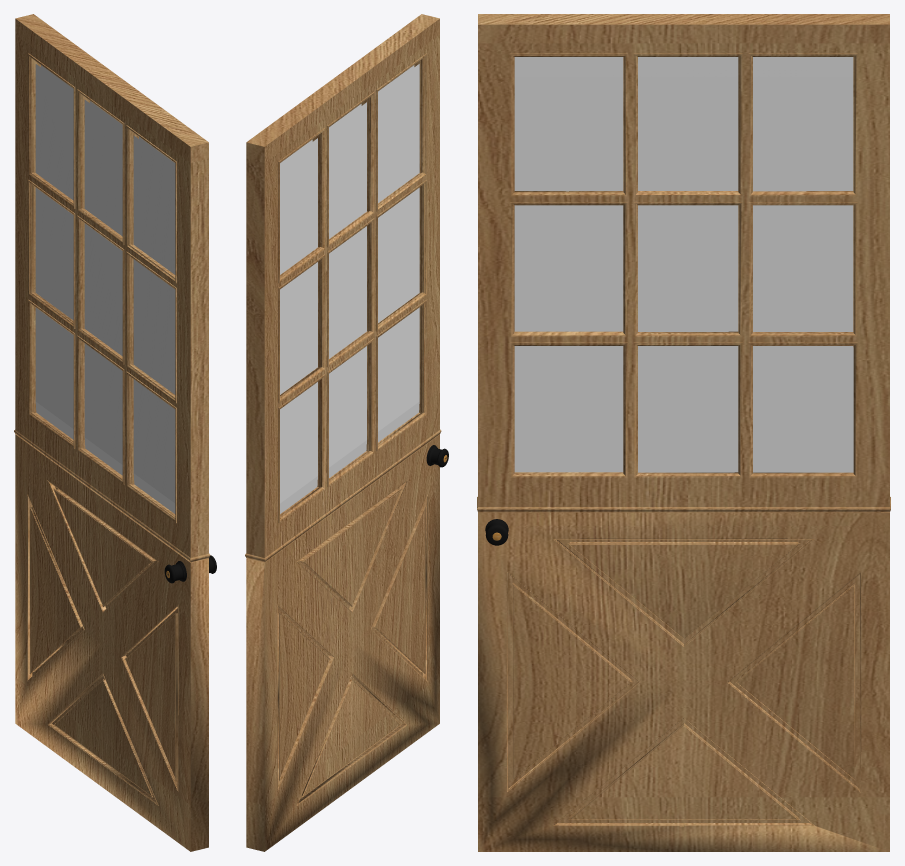
Rendered from door_fixed.fbx.
3 renders of one model, left to right at view 1: azimuth 30°, elevation 25°; view 2: azimuth 150°, elevation 25°; view 3: azimuth 270°, elevation 25°, orthographic. The views are drawn at different scales.
Visible parts, largest first — view 1: door_1; view 2: door_1; view 3: door_1.
Boxes of the visible parts, x1=… form: door_1: x1=14, y1=14, x2=216, y2=851; door_1: x1=245, y1=14, x2=448, y2=851; door_1: x1=477, y1=14, x2=890, y2=851.
Bounding box in the file's own units: 14.67 × 220 × 99.49.
